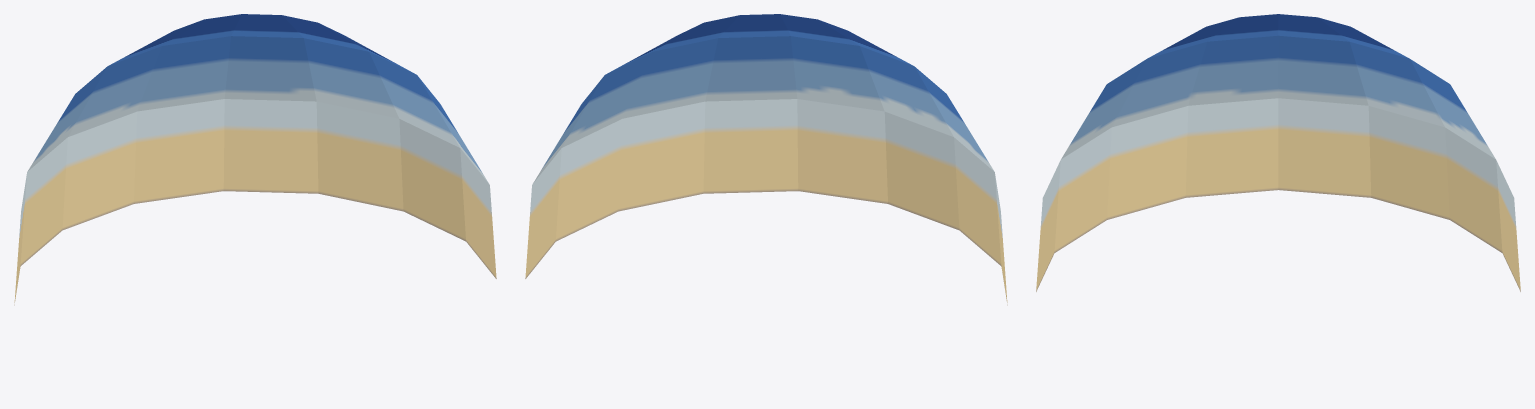
The model's file is wsky.dome.glb.
The picture shows the model from 3 angles, left to right: view 1: azimuth 30°, elevation 25°; view 2: azimuth 150°, elevation 25°; view 3: azimuth 270°, elevation 25°; orthographic projection.
Visible parts, largest first — view 1: kit_shell_sky; view 2: kit_shell_sky; view 3: kit_shell_sky.
Part boxes in pixels (x1,y1,x2,y2): kit_shell_sky: (14, 14, 496, 305); kit_shell_sky: (525, 14, 1007, 305); kit_shell_sky: (1036, 14, 1520, 291).
Bounding box in the file's own units: 791 × 460 × 791.
Materials: 1 (1 with a texture image).
